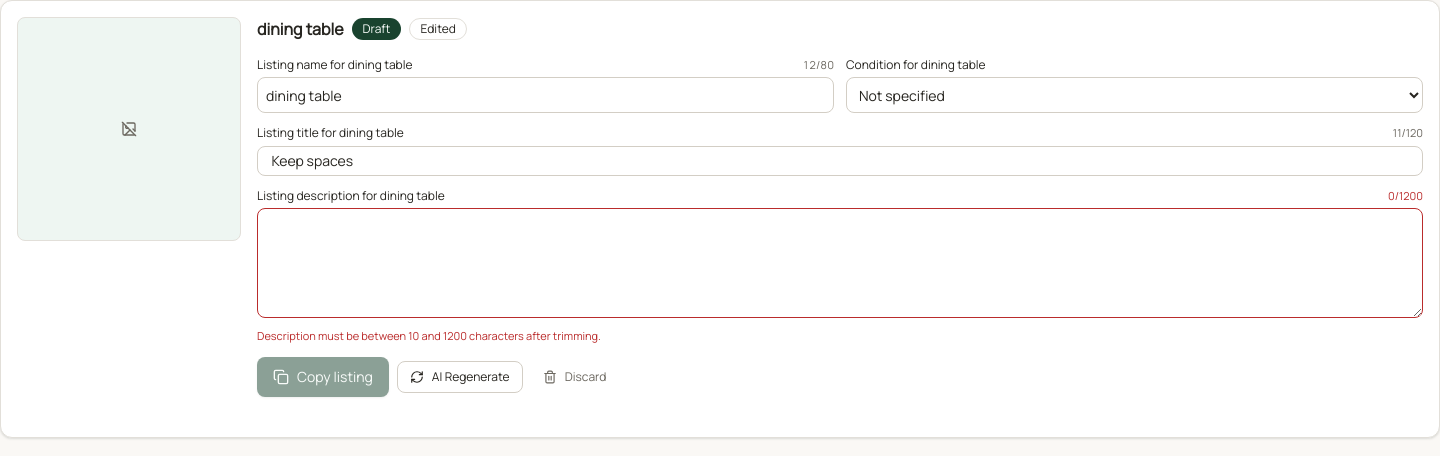
ListingDraftCard › copy listing › one click produces exactly one write of '<title>\n\n<description>' using the edited text
In the text box labelled "Listing description for dining table": {"x": 840, "y": 263} [257,208,1423,318], type "  padded description  "
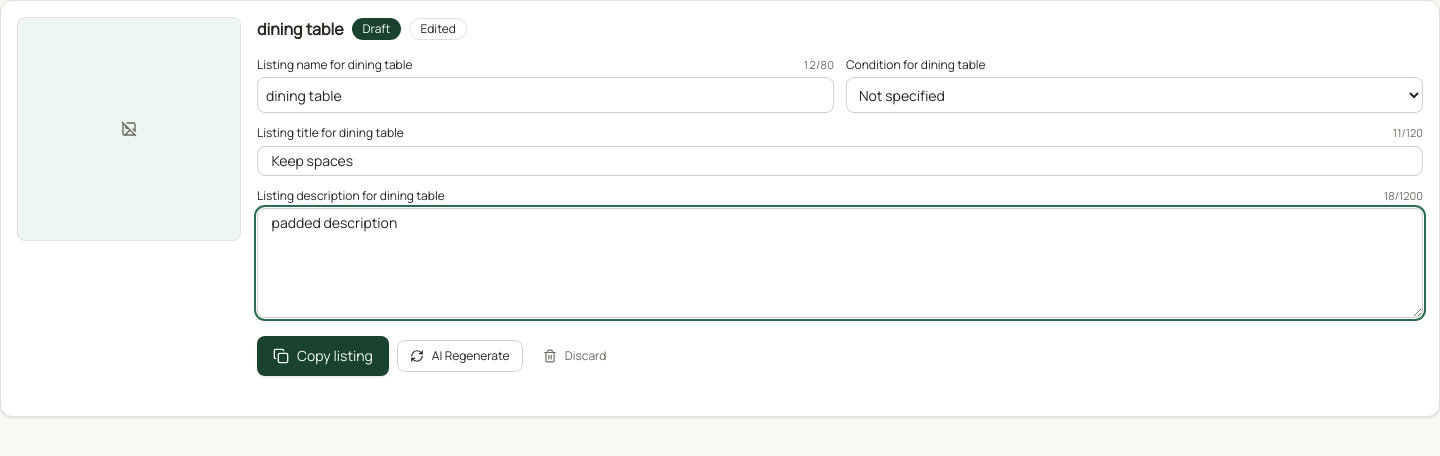
Click the button "Copy listing": {"x": 323, "y": 356} [257,336,389,376]
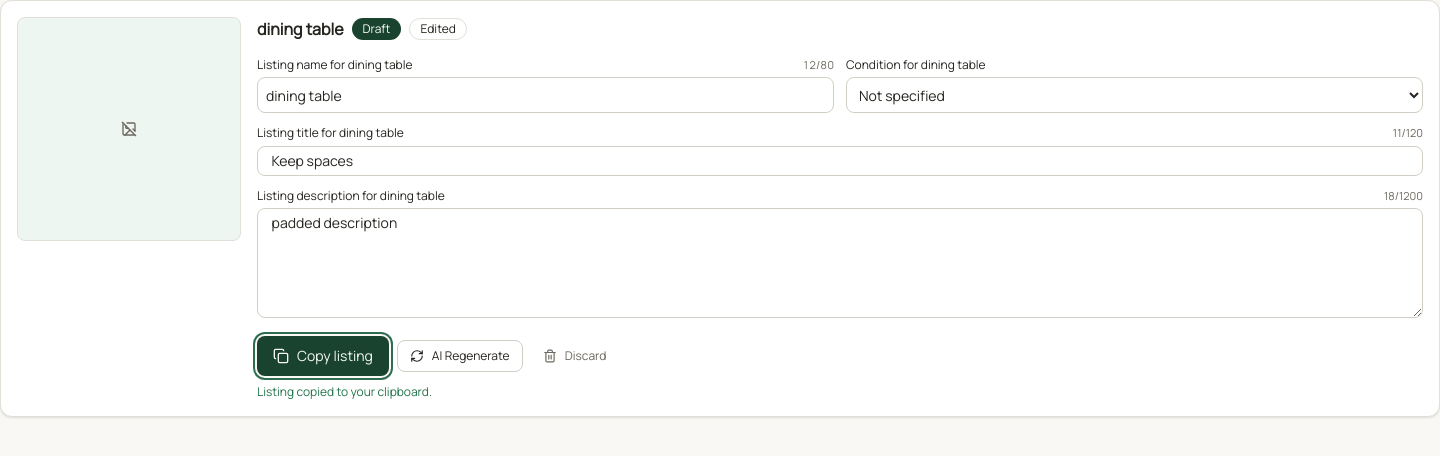
Now the text "Listing copied to your clipboard." is shown, box [257,383,432,400]
